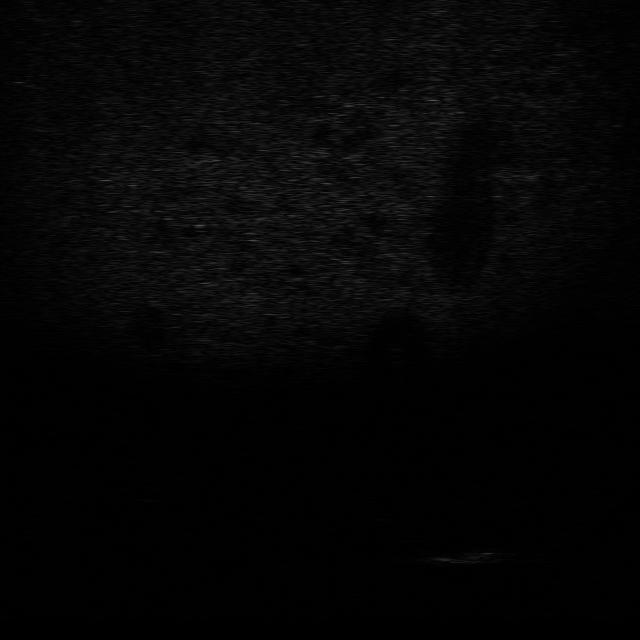ball: (124, 480, 181, 506)
metal bucket: (422, 540, 508, 568)
tyre: (365, 514, 439, 545)
